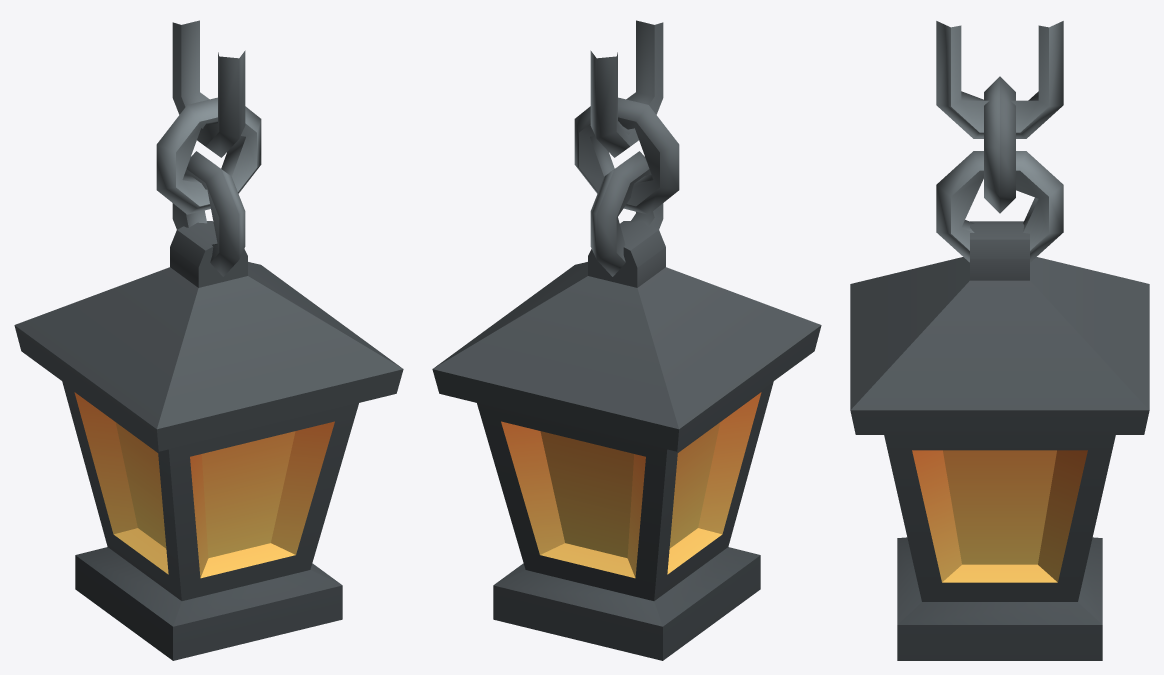
Rendered from cc0-lantern-hanging-lod1.glb.
The picture shows the model from 3 angles, left to right: view 1: azimuth 30°, elevation 25°; view 2: azimuth 150°, elevation 25°; view 3: azimuth 270°, elevation 25°; orthographic projection. The views are drawn at different scales.
Visible parts, largest first — view 1: part_0; view 2: part_0; view 3: part_0.
Boxes of the visible parts, x1,y1,x2,y2 form: part_0: [14, 20, 403, 660]; part_0: [432, 20, 821, 660]; part_0: [850, 21, 1149, 660].
Bounding box in the file's own units: 0.64 × 1.41 × 0.64.
1 material, 1 textured.
